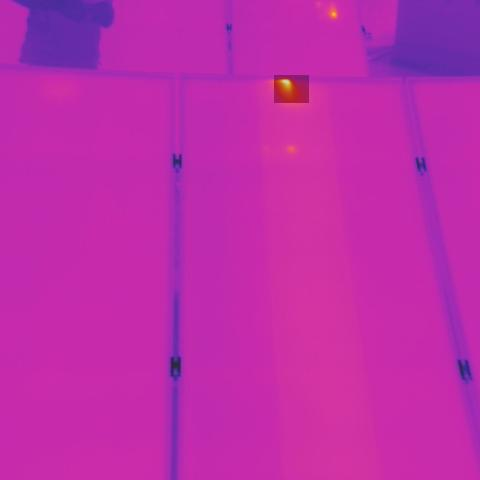fault: (274, 75, 309, 103)
